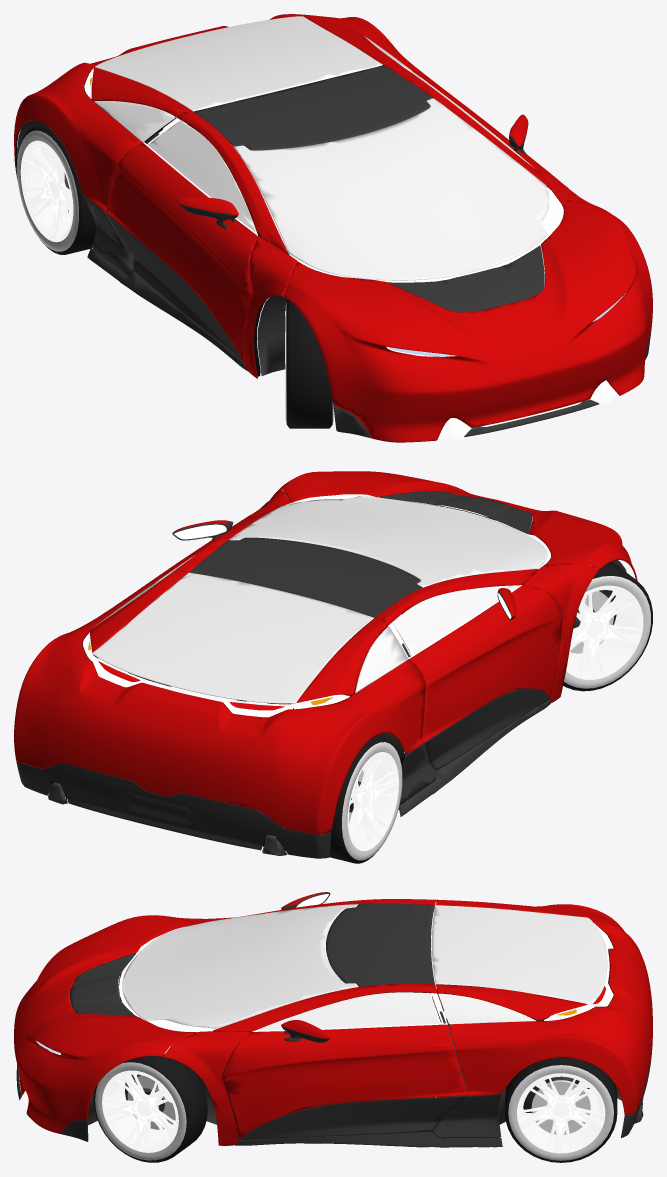
The model's file is car.glb.
3 views of the same model, one above another, from view 1: azimuth 30°, elevation 25°; view 2: azimuth 150°, elevation 25°; view 3: azimuth 270°, elevation 25° (orthographic). The views are drawn at different scales.
Parts seen in each view (by area): view 1: BodyHood, BodyWindshield, BodyRearwindow, BodyDoorRColor1, BodyRearPanelsColor1, BodyRoofPanel, Tire (×2), BodyPillars, BodyPanelsColor2, BodyHoodTopgrill, BodyDoorRWindow, WheelRearRRim (+7 smaller); view 2: BodyRearPanelsColor1, BodyRearwindow, BodyWindshield, BodyPanelsColor2, BodyDoorRColor1, BodyRoofPanel, BodyHood, BodyPillars, Tire (×2), WheelFrontRRim, BodyDoorRColor2, WheelRearRRim (+5 smaller); view 3: BodyWindshield, BodyRearPanelsColor1, BodyDoorLColor1, BodyHood, BodyRearwindow, Tire (×2), BodyRoofPanel, BodyPillars, BodyDoorLColor2, BodyPanelsColor2, WheelRearLRim, WheelFrontLRim (+10 smaller).
Part boxes in pixels (bbox=[...]): BodyHood: bbox=[283, 198, 652, 442]; BodyWindshield: bbox=[234, 98, 549, 280]; BodyRearwindow: bbox=[94, 16, 382, 111]; BodyDoorRColor1: bbox=[104, 143, 257, 363]; BodyRearPanelsColor1: bbox=[14, 14, 428, 210]; BodyRoofPanel: bbox=[193, 65, 432, 150]; Tire (×2): bbox=[17, 124, 333, 428]; BodyPillars: bbox=[176, 61, 598, 378]; BodyPanelsColor2: bbox=[15, 167, 651, 438]; BodyHoodTopgrill: bbox=[388, 245, 544, 312]; BodyDoorRWindow: bbox=[148, 120, 257, 234]; WheelRearRRim: bbox=[20, 140, 73, 242]; BodyRearPanelsColor1: bbox=[14, 569, 425, 834]; BodyRearwindow: bbox=[92, 572, 373, 703]; BodyWindshield: bbox=[229, 496, 547, 587]; BodyPanelsColor2: bbox=[16, 700, 550, 858]; BodyDoorRColor1: bbox=[409, 585, 562, 742]; BodyRoofPanel: bbox=[189, 537, 422, 617]; BodyHood: bbox=[279, 471, 637, 580]; BodyPillars: bbox=[175, 489, 599, 702]; Tire (×2): bbox=[329, 562, 652, 863]; WheelFrontRRim: bbox=[566, 585, 643, 679]; BodyDoorRColor2: bbox=[424, 688, 549, 769]; WheelRearRRim: bbox=[347, 752, 398, 850]; BodyWindshield: bbox=[122, 904, 358, 1028]; BodyRearPanelsColor1: bbox=[436, 899, 652, 1115]; BodyDoorLColor1: bbox=[222, 1024, 467, 1139]; BodyHood: bbox=[14, 915, 196, 1133]; BodyRearwindow: bbox=[431, 905, 607, 1004]; Tire (×2): bbox=[93, 1054, 617, 1162]; BodyRoofPanel: bbox=[326, 903, 434, 986]; BodyPillars: bbox=[163, 899, 437, 1145]; BodyDoorLColor2: bbox=[240, 1096, 467, 1140]; BodyPanelsColor2: bbox=[16, 1050, 652, 1147]; WheelRearLRim: bbox=[517, 1073, 605, 1153]; WheelFrontLRim: bbox=[102, 1070, 178, 1152].
Bounding box in the file's own units: 2.54 × 1.15 × 4.36.
